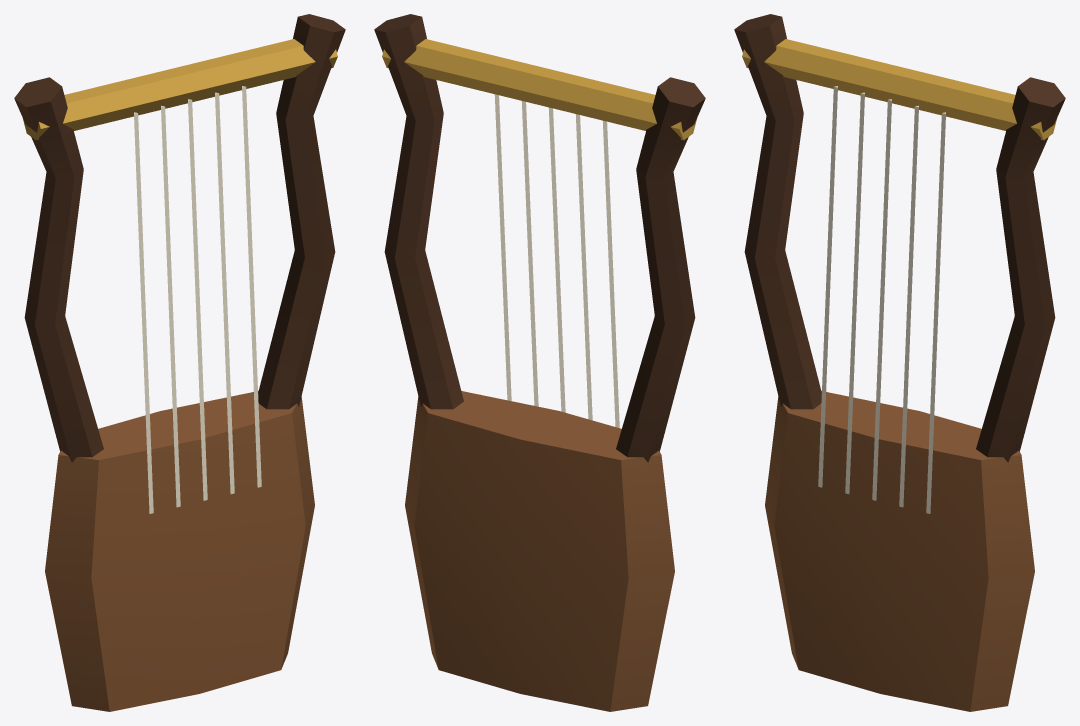
File: Instrument.fbx
The picture shows the model from 3 angles, left to right: view 1: azimuth 30°, elevation 25°; view 2: azimuth 150°, elevation 25°; view 3: azimuth 330°, elevation 25°; orthographic projection.
Parts seen in each view (by area): view 1: Instrument; view 2: Instrument; view 3: Instrument.
Part boxes in pixels (bbox=[...]): Instrument: bbox=[14, 14, 345, 711]; Instrument: bbox=[374, 14, 705, 711]; Instrument: bbox=[734, 14, 1065, 711].
Size of the model in its own units: 0.2363 by 0.4444 by 0.0629.
